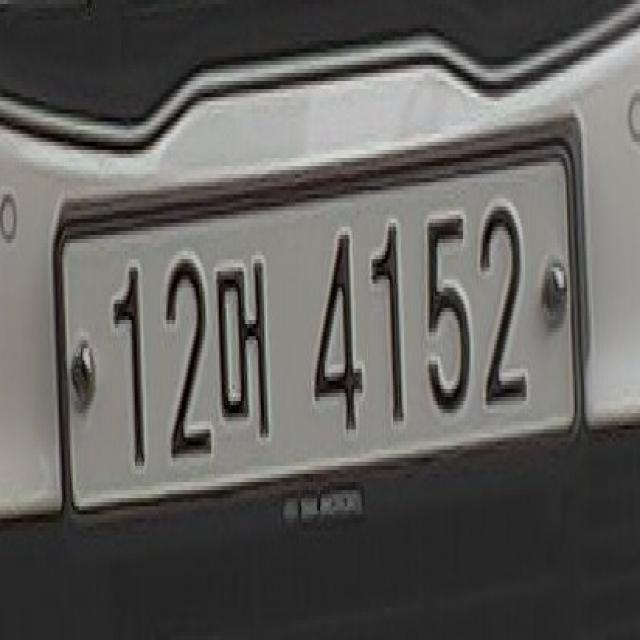1: (108, 243, 162, 490), (368, 214, 410, 453)
2: (475, 194, 530, 426), (162, 243, 214, 474)
4: (309, 214, 368, 462)
5: (418, 206, 472, 434)
license_plate: (51, 89, 589, 547)
meo: (214, 243, 272, 462)
